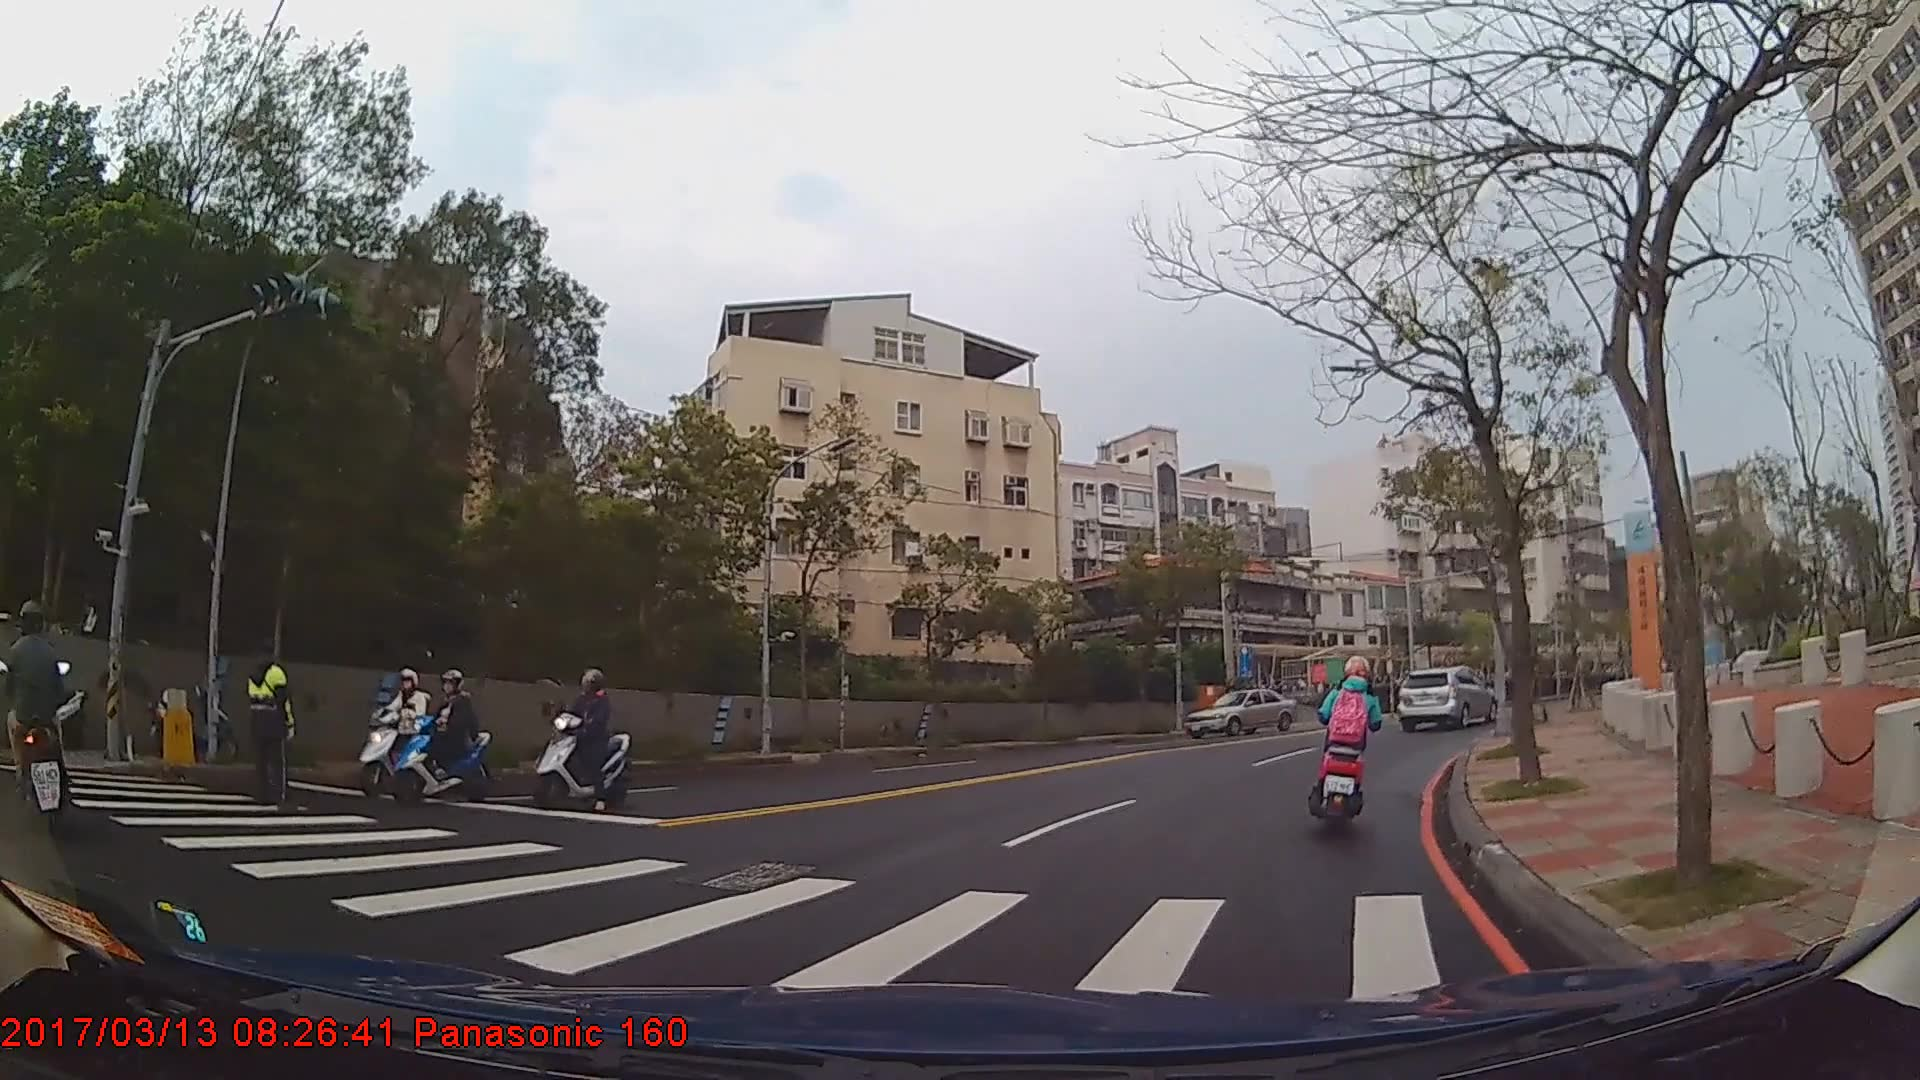pedestrian: (242, 634, 300, 804)
rider: (530, 670, 633, 812), (12, 599, 71, 828), (1311, 657, 1381, 821), (402, 667, 487, 799), (358, 664, 444, 791)
vehicle: (1396, 664, 1496, 729), (1181, 686, 1295, 738)
